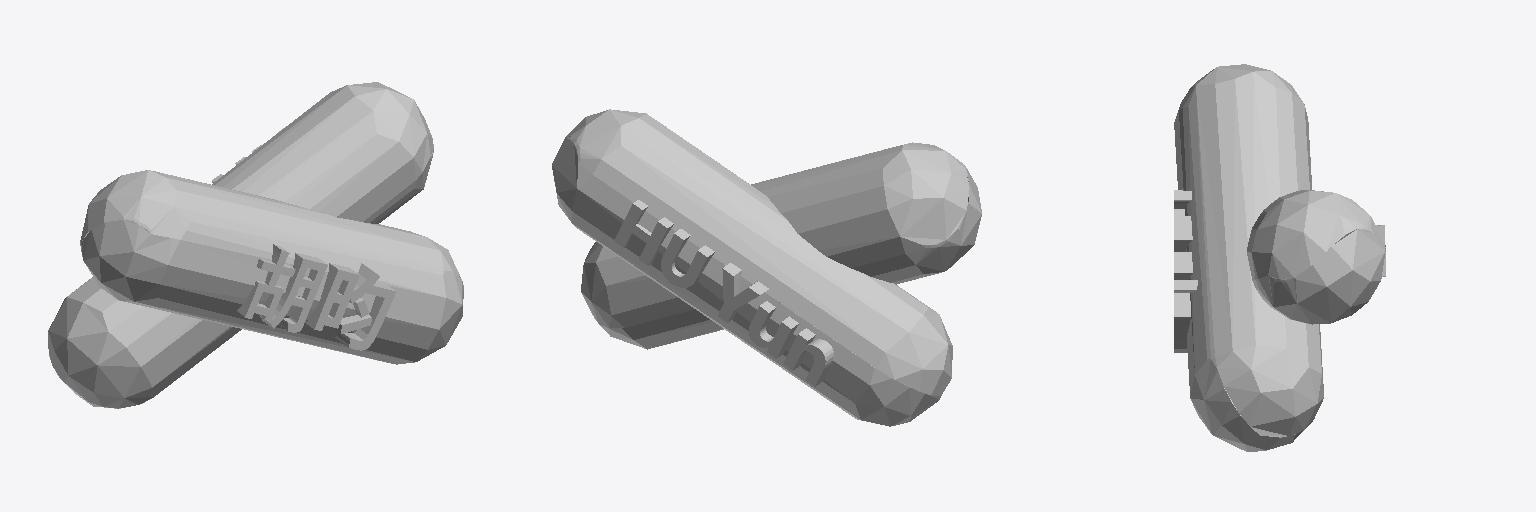
The model's file is HuYun.obj.
3 views of the same model, side by side, from view 1: azimuth 30°, elevation 25°; view 2: azimuth 150°, elevation 25°; view 3: azimuth 270°, elevation 25° (orthographic).
Visible parts, largest first — view 1: root_3, root_2, node_id321.2; view 2: root_2, root_3, node_id333; view 3: root_3, root_2, node_id321.2.
Boxes of the visible parts, box(x1,y1,x2,y2) form: root_3: box(80, 170, 463, 364); root_2: box(48, 82, 433, 408); node_id321.2: box(237, 244, 395, 350); root_2: box(552, 109, 952, 426); root_3: box(581, 142, 981, 349); node_id333: box(614, 200, 833, 386); root_3: box(1174, 64, 1323, 451); root_2: box(1247, 190, 1385, 324); node_id321.2: box(1174, 190, 1197, 352).
Bounding box in the file's own units: 0.289 × 0.1836 × 0.1408.